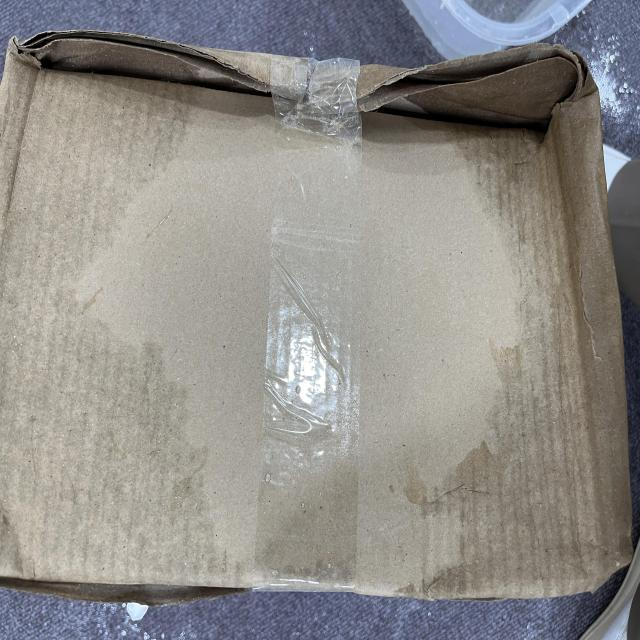wet: (47, 0, 436, 317), (31, 524, 437, 640)
